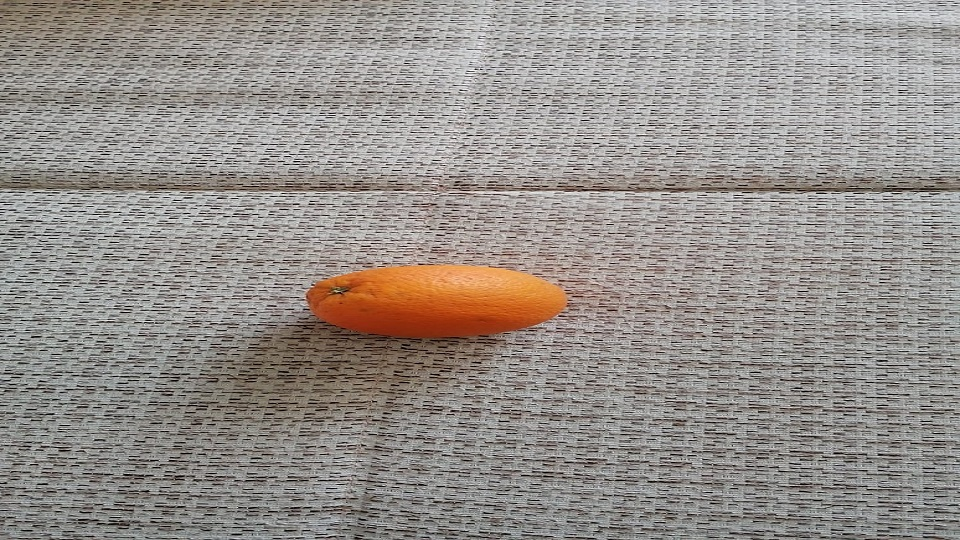portakal: (305, 264, 571, 338)
